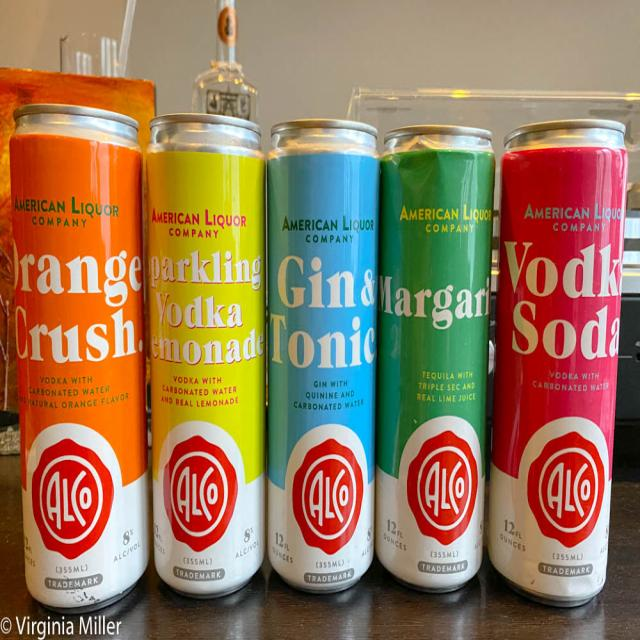non-organic waste: (0, 92, 149, 620), (491, 88, 626, 616), (150, 99, 274, 618), (378, 85, 496, 618), (268, 89, 378, 616)
